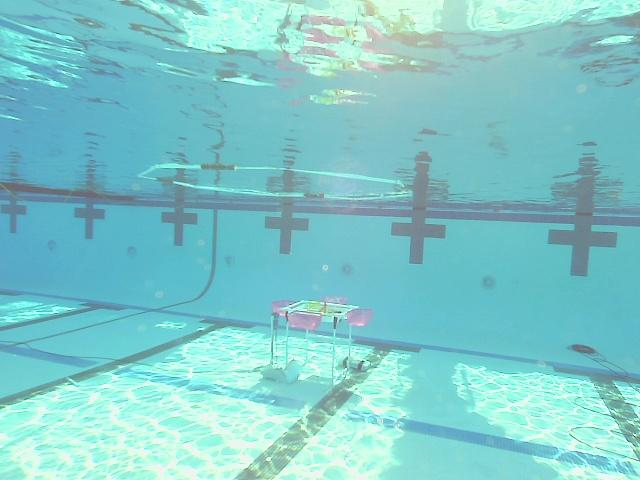table: (262, 296, 373, 392)
